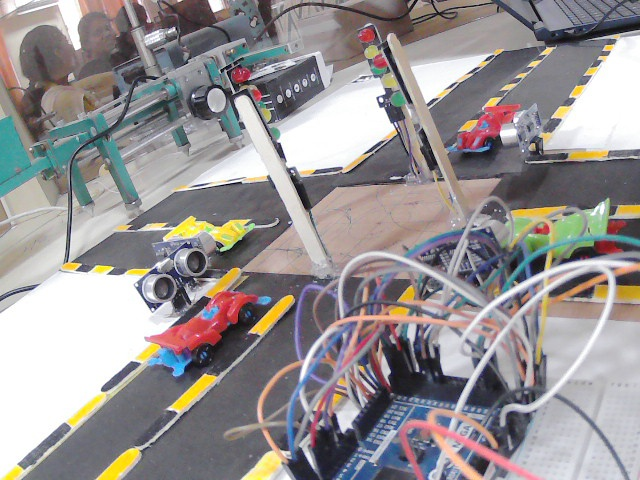black_strip: (120, 417, 168, 450), (34, 422, 70, 461), (218, 336, 252, 371), (104, 360, 136, 387), (528, 147, 568, 165), (541, 282, 588, 294), (607, 144, 638, 159), (532, 150, 561, 165), (357, 140, 386, 153), (544, 117, 560, 132), (204, 216, 220, 230), (484, 48, 496, 65), (190, 182, 208, 192), (110, 264, 124, 276), (173, 216, 184, 231), (126, 222, 144, 231), (76, 264, 90, 273), (424, 99, 437, 108), (148, 266, 160, 275), (468, 68, 478, 78), (592, 59, 601, 69), (567, 96, 575, 104), (451, 80, 458, 86), (587, 72, 591, 80)
car: (144, 288, 256, 371), (500, 213, 624, 255), (455, 105, 514, 147), (166, 216, 248, 245)
mixed_lane: (4, 263, 244, 477), (92, 300, 294, 480), (528, 51, 610, 147), (421, 45, 500, 108), (118, 213, 256, 228), (528, 144, 640, 162), (508, 203, 640, 216), (174, 177, 276, 192), (535, 285, 637, 299)
traffic_light: (250, 89, 291, 159), (372, 54, 408, 117), (351, 27, 384, 80), (224, 63, 262, 107)
uno_breadboard: (279, 366, 541, 468), (413, 221, 503, 287), (138, 251, 212, 303)
yellow_strip: (160, 374, 206, 422), (252, 294, 295, 333), (64, 393, 103, 425), (102, 446, 133, 480), (595, 285, 640, 302), (72, 396, 104, 414), (606, 203, 640, 219), (568, 147, 612, 159), (348, 150, 368, 170), (126, 266, 146, 278), (241, 173, 264, 183), (6, 462, 20, 477), (6, 461, 20, 474), (140, 345, 154, 357), (556, 101, 570, 113), (572, 86, 584, 99), (588, 63, 601, 74), (144, 221, 164, 228), (437, 87, 451, 96), (206, 179, 224, 186), (90, 266, 108, 273), (60, 261, 75, 269), (602, 42, 610, 57), (456, 72, 470, 80), (388, 126, 397, 138), (170, 183, 188, 189), (298, 167, 312, 174), (541, 128, 548, 140), (116, 225, 129, 231), (477, 59, 487, 66)
